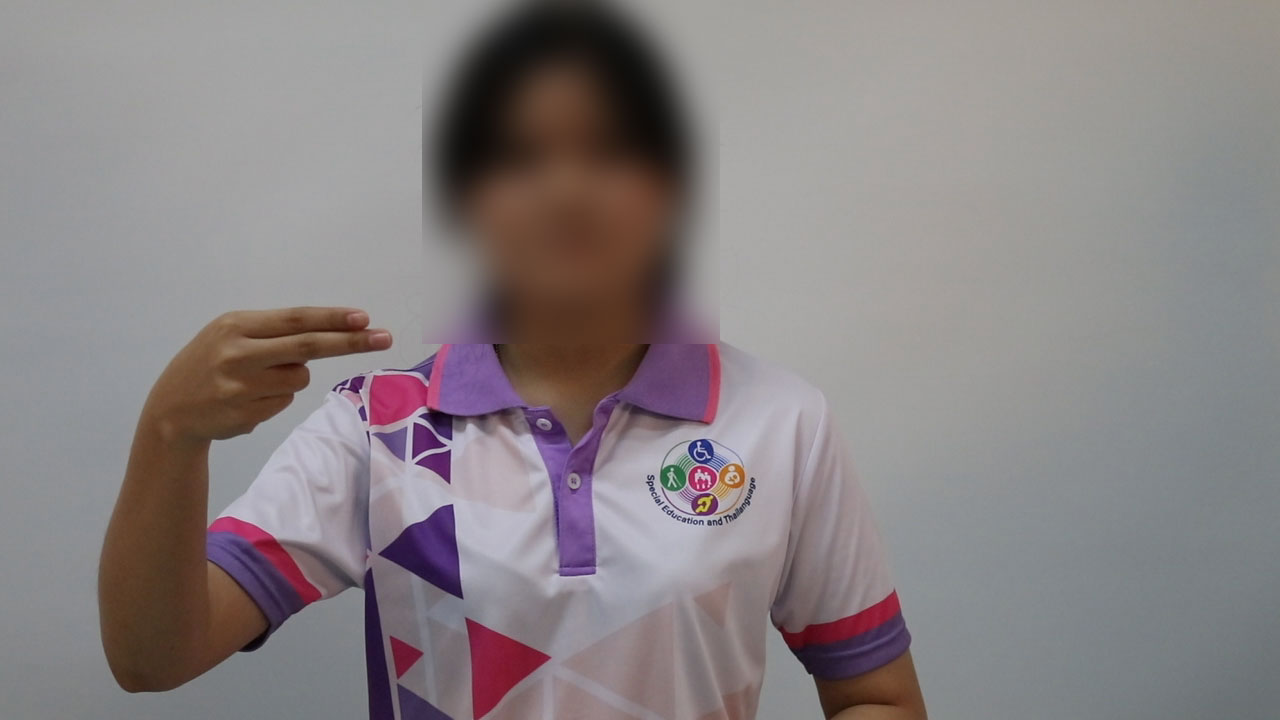hor: (136, 300, 403, 444)
